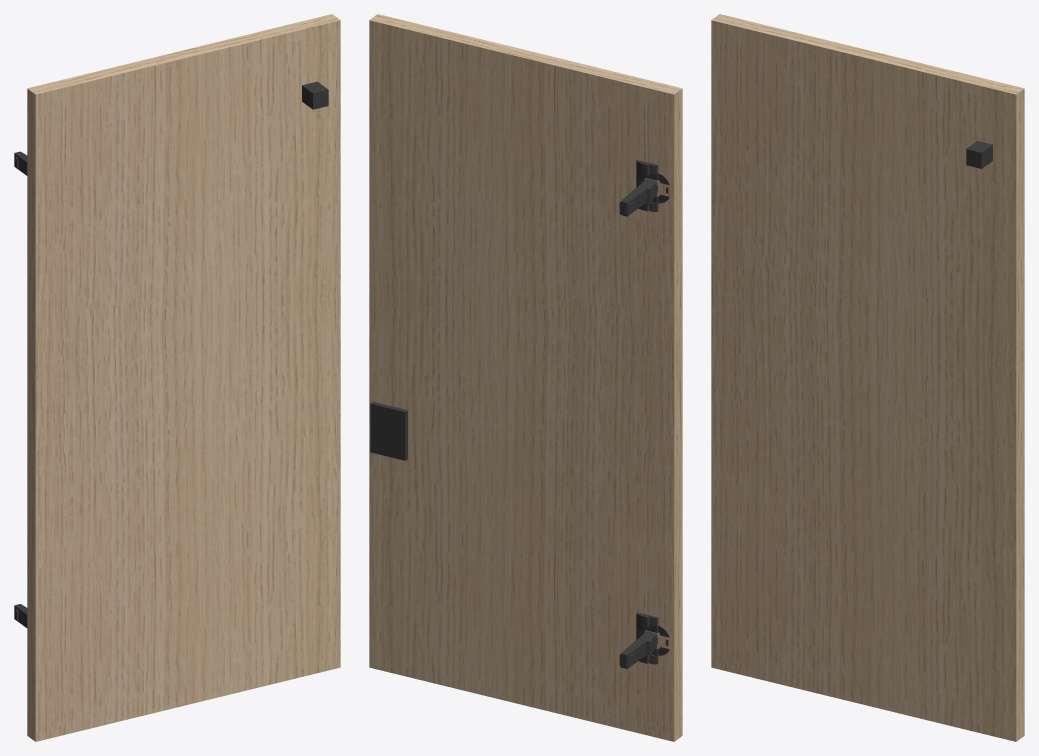
Rendered from Benk_A_dor_venstre.glb.
3 views of the same model, side by side, from view 1: azimuth 30°, elevation 25°; view 2: azimuth 150°, elevation 25°; view 3: azimuth 330°, elevation 25° (orthographic).
Parts seen in each view (by area): view 1: 2025-284 Vitrineskap; view 2: 2025-284 Vitrineskap, Benk A dør venstre hengsel z758 Blum 71B3590, Benk A dør venstre hengsel z202 Blum 71B3590; view 3: 2025-284 Vitrineskap.
Boxes of the visible parts, bbox=[...] form: 2025-284 Vitrineskap: bbox=[27, 14, 340, 741]; 2025-284 Vitrineskap: bbox=[369, 14, 682, 741]; Benk A dør venstre hengsel z758 Blum 71B3590: bbox=[619, 160, 669, 216]; Benk A dør venstre hengsel z202 Blum 71B3590: bbox=[619, 612, 669, 668]; 2025-284 Vitrineskap: bbox=[711, 14, 1024, 741].
Size of the model in its own units: 393 by 797 by 112.
2 materials, 1 textured.
